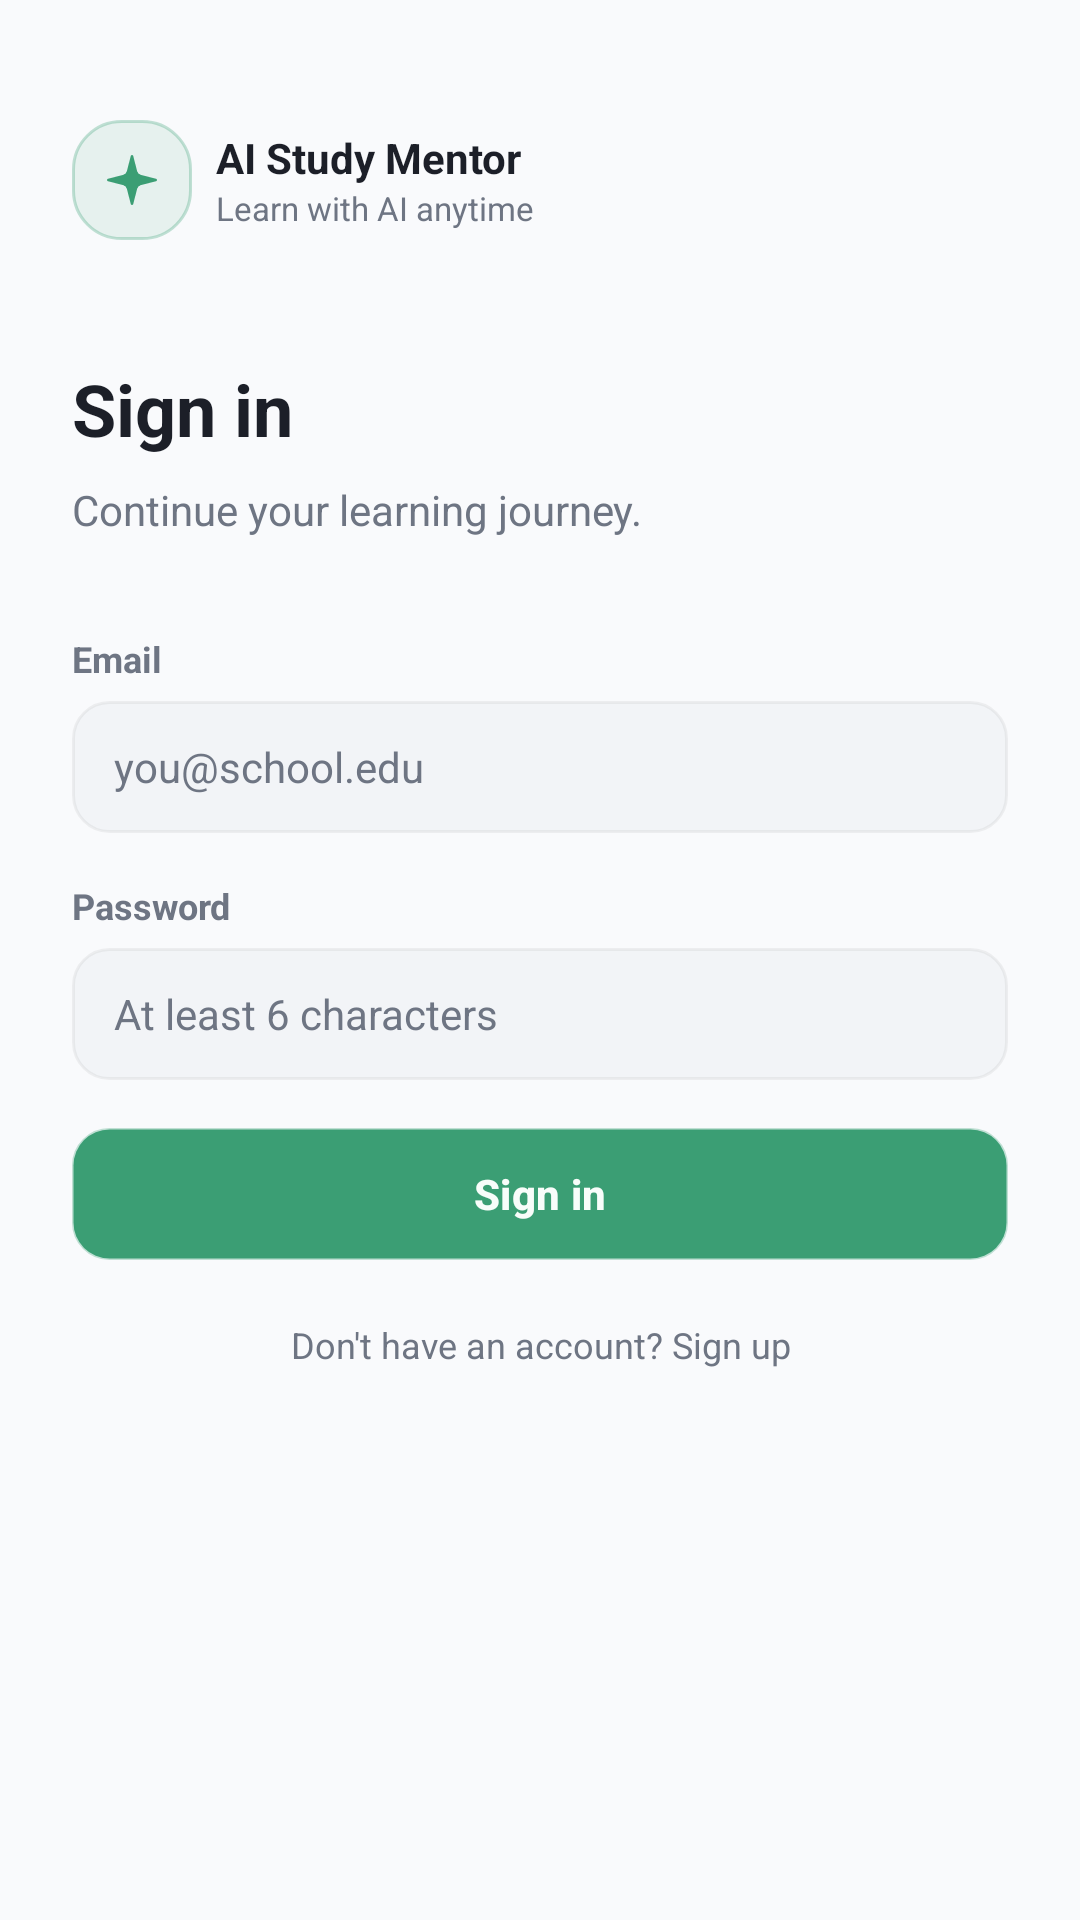

Icon bounding boxes for this 1080×1920 phone screenshot, format [left=x1, top=y1, right=x2, bottom=y2]:
sparkles: [left=107, top=155, right=157, bottom=205]
